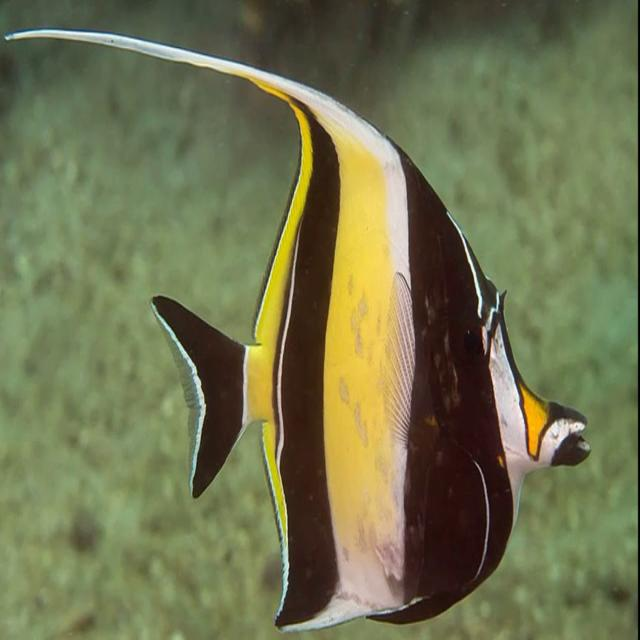MorishIdol: (3, 23, 593, 635)
